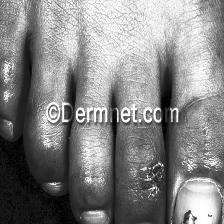Unclassified: (174, 183, 224, 223), (139, 163, 168, 209)
